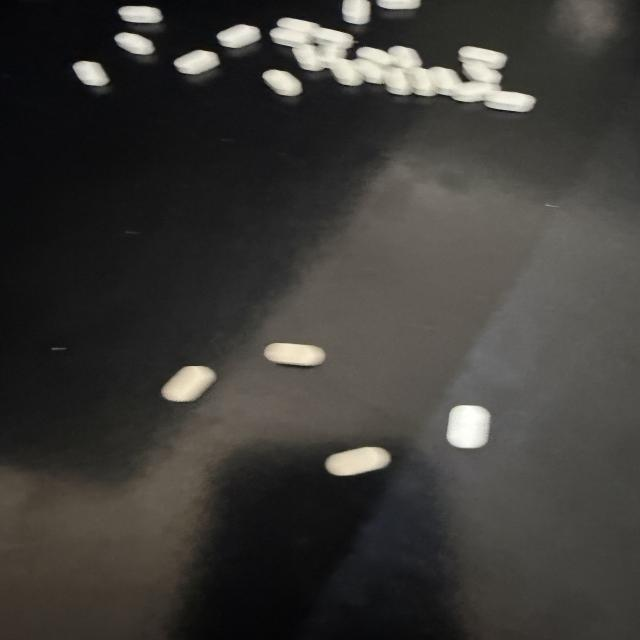pill: (161, 366, 216, 402), (325, 447, 391, 476), (447, 406, 490, 448), (264, 343, 325, 366), (485, 90, 536, 112), (174, 50, 219, 74), (459, 47, 507, 69), (217, 24, 260, 48), (263, 70, 302, 96), (462, 60, 502, 85), (328, 59, 364, 86), (452, 81, 497, 102), (73, 61, 109, 86), (115, 33, 155, 55), (430, 67, 461, 95), (406, 68, 437, 96), (293, 44, 325, 71), (353, 58, 384, 84), (313, 28, 353, 48), (384, 67, 412, 95), (270, 27, 310, 46), (388, 46, 422, 68), (118, 6, 162, 23), (342, 0, 371, 24), (356, 47, 391, 66), (317, 46, 347, 68), (277, 18, 319, 32), (377, 0, 421, 9)
